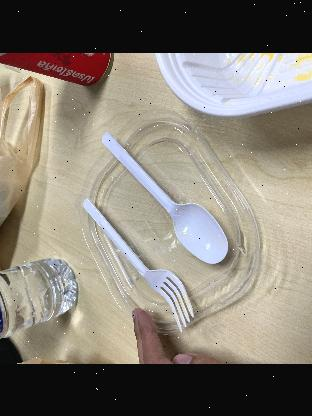Others: (94, 126, 232, 268), (80, 198, 198, 334)
